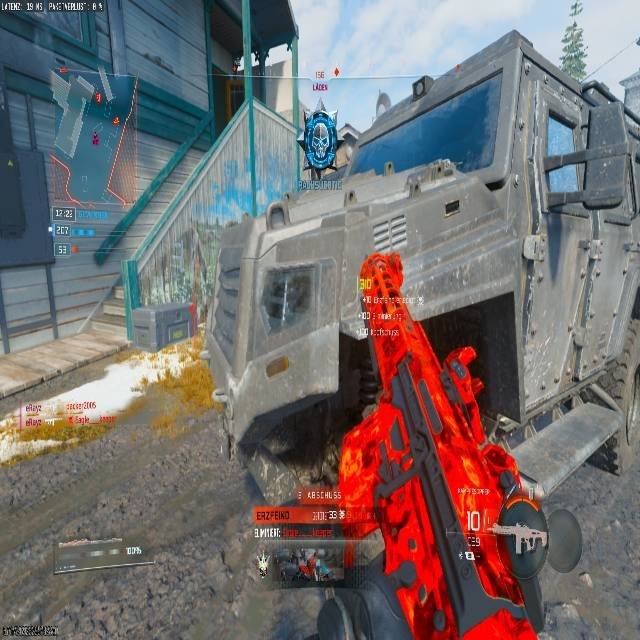player: (358, 252, 403, 315)
